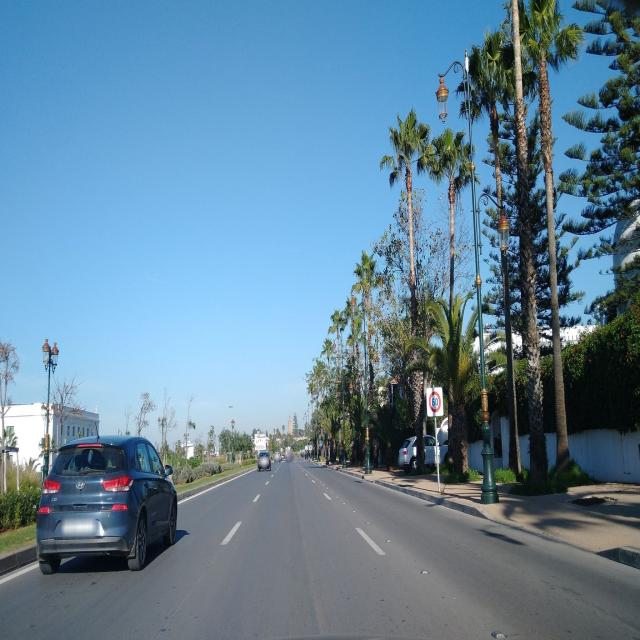car: (36, 432, 178, 574), (398, 433, 434, 473), (423, 424, 449, 469), (257, 449, 272, 472)
